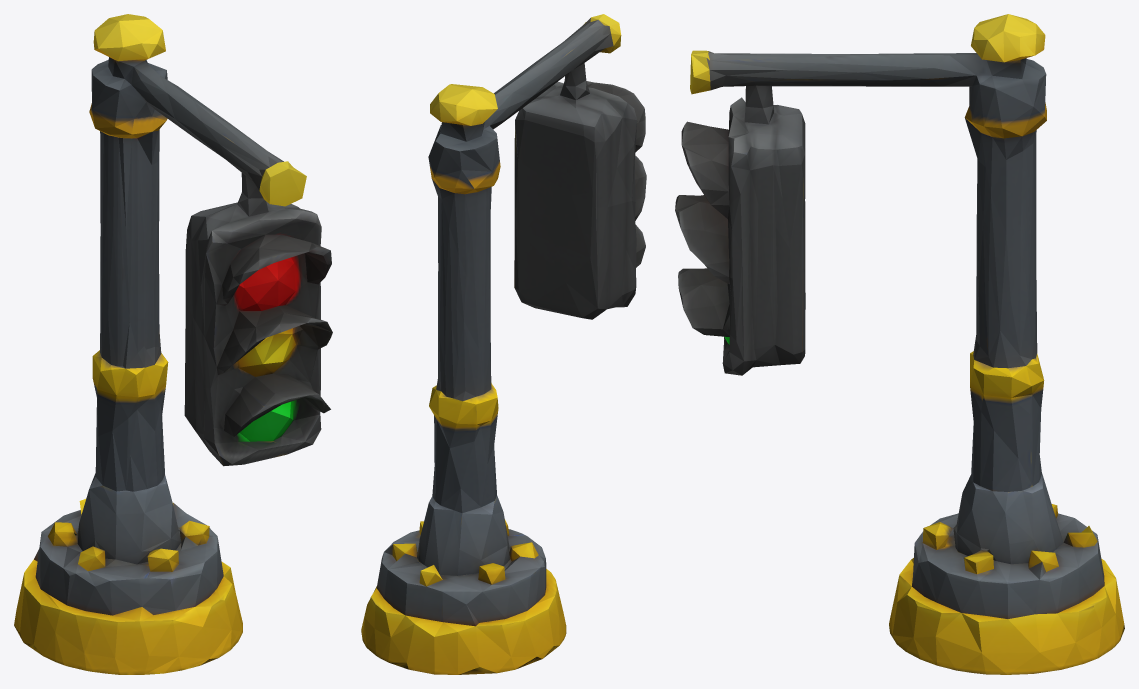
File: traffic_light.glb
The picture shows the model from 3 angles, left to right: view 1: azimuth 30°, elevation 25°; view 2: azimuth 150°, elevation 25°; view 3: azimuth 270°, elevation 25°; orthographic projection. The views are drawn at different scales.
Visible parts, largest first — view 1: geometry_0; view 2: geometry_0; view 3: geometry_0.
Part boxes in pixels (x1,y1,x2,y2): geometry_0: (14,14,332,674); geometry_0: (361,14,646,674); geometry_0: (675,14,1124,674).
Bounding box in the file's own units: 0.3379 × 1 × 0.6705.
Materials: 1 (1 with a texture image).
